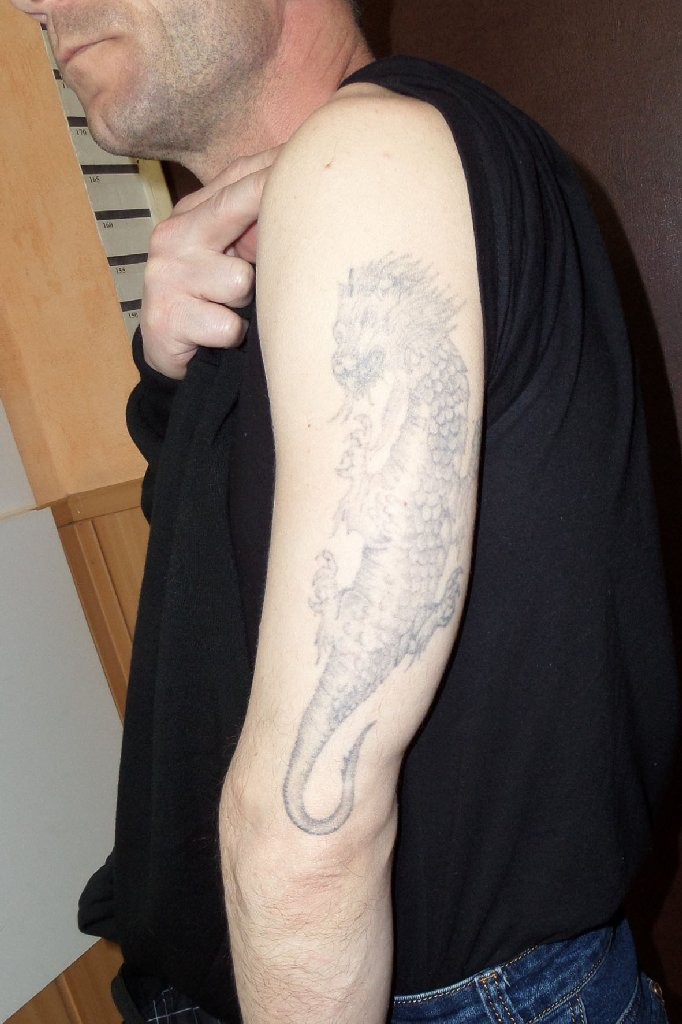tatu6_drakon: (267, 226, 497, 862)
